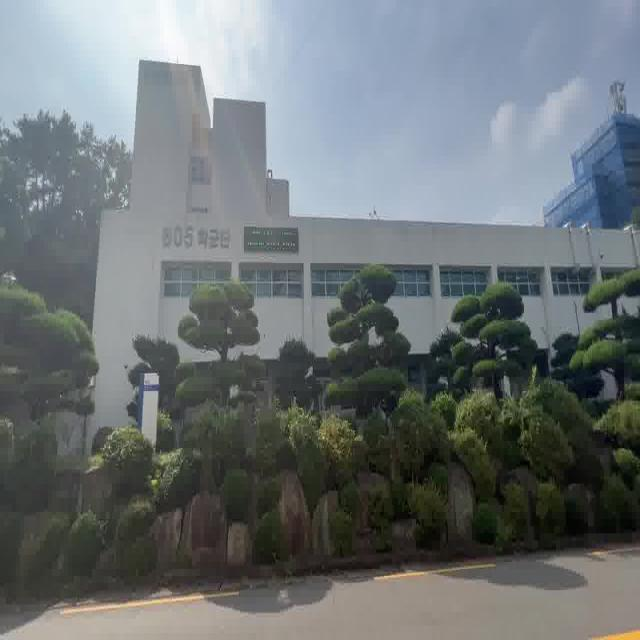building: (89, 56, 423, 402)
